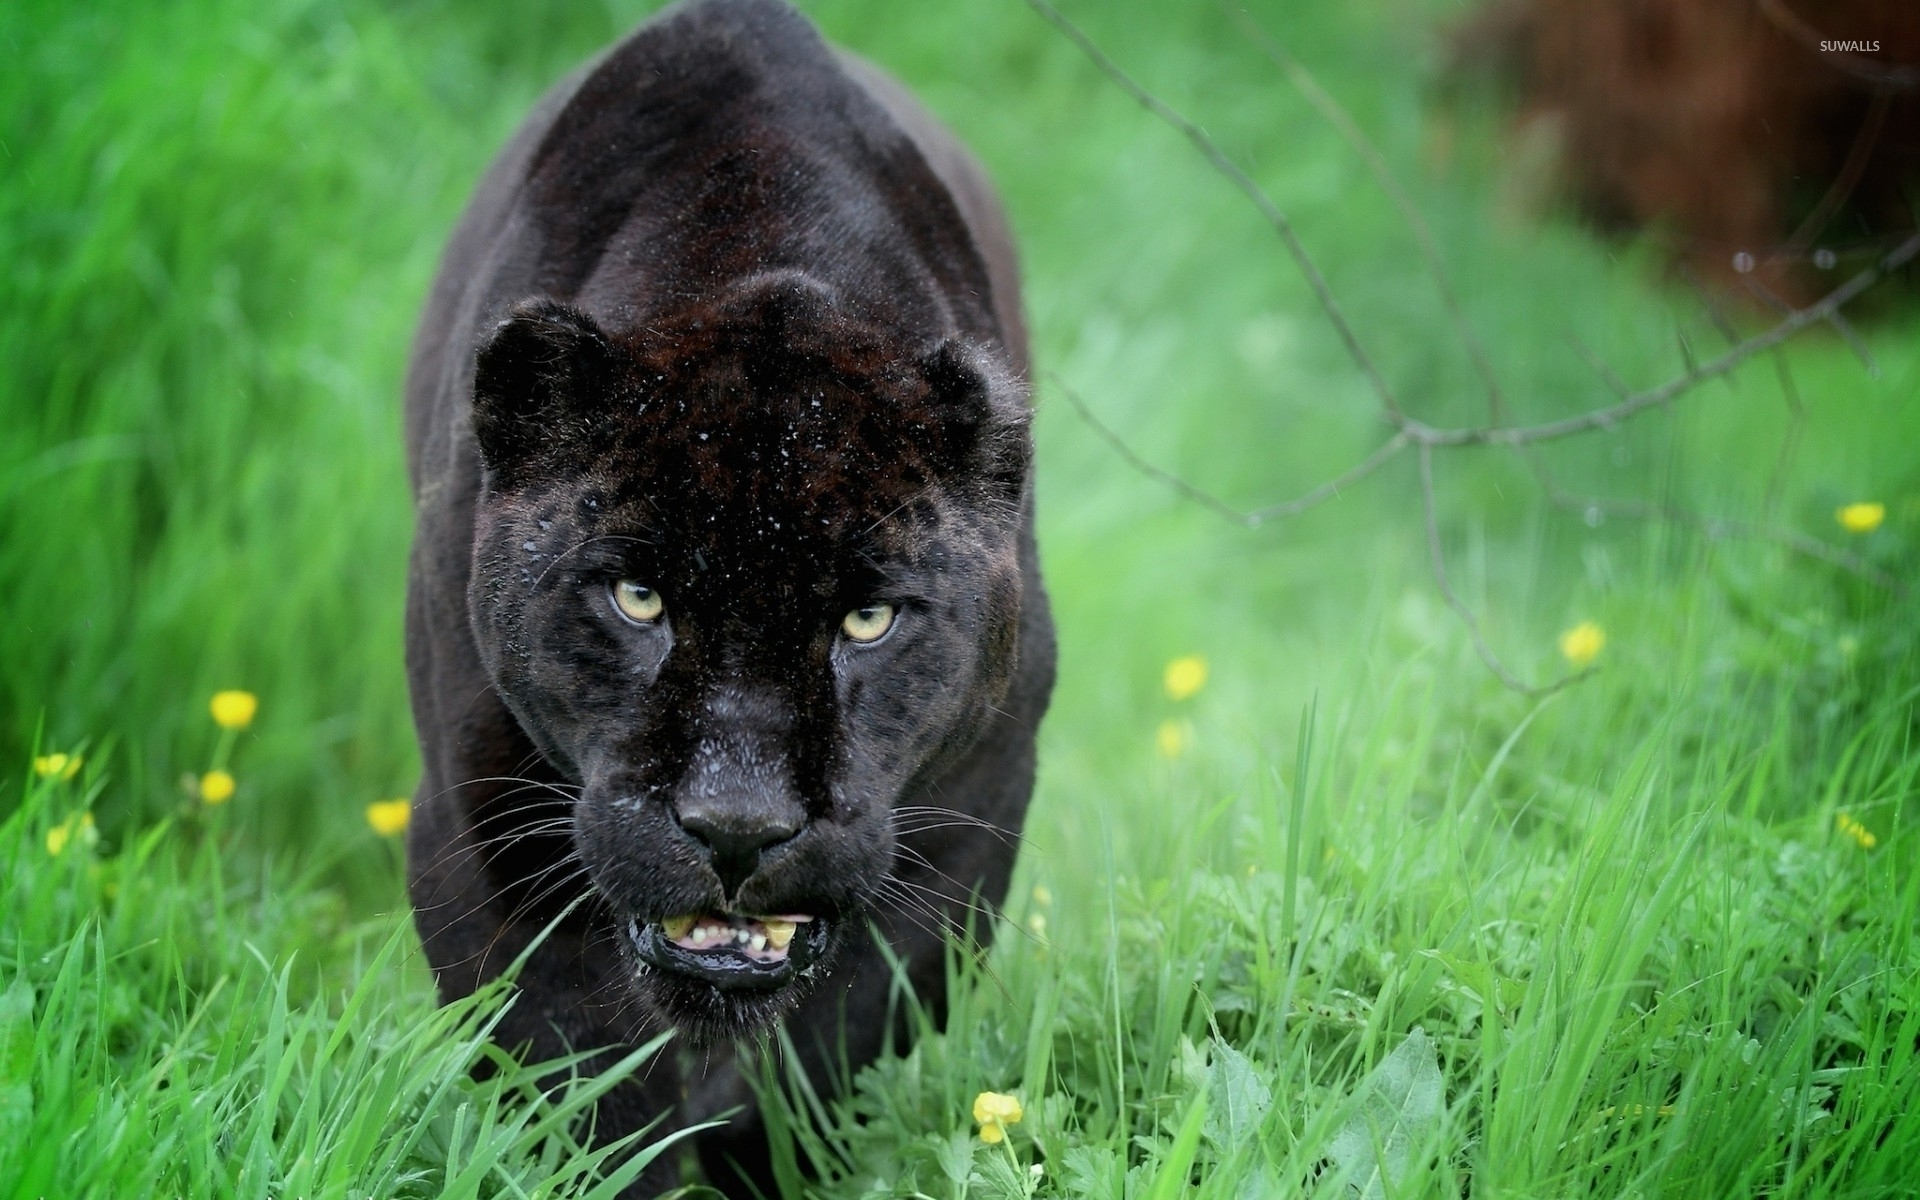panther: (390, 283, 1075, 1052)
